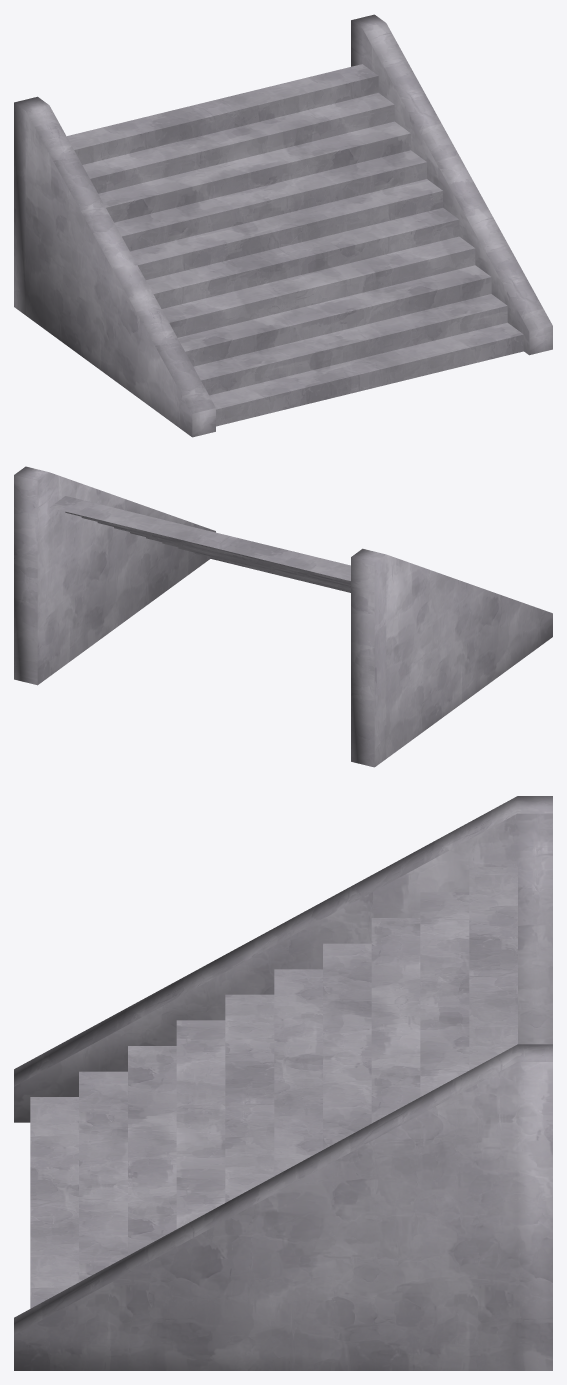
File: Stairs_1.fbx
3 renders of one model, top to bottom at view 1: azimuth 30°, elevation 25°; view 2: azimuth 150°, elevation 25°; view 3: azimuth 270°, elevation 25°, orthographic. The views are drawn at different scales.
Visible parts, largest first — view 1: Stairs_1; view 2: Stairs_1; view 3: Stairs_1.
Boxes of the visible parts, x1,y1,x2,y2 form: Stairs_1: (14, 14, 552, 437); Stairs_1: (14, 466, 552, 767); Stairs_1: (14, 796, 552, 1370).
Size of the model in its own units: 4.11 by 2.23 by 3.52.
